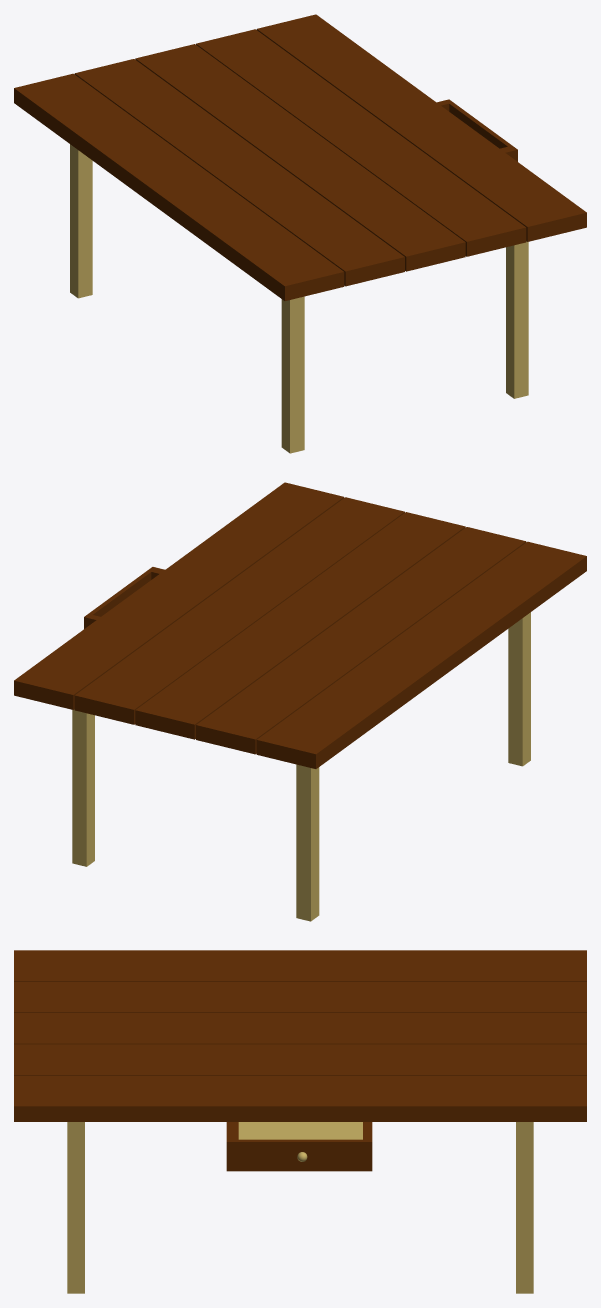
Rendered from Stol2.fbx.
3 views of the same model, one above another, from view 1: azimuth 30°, elevation 25°; view 2: azimuth 150°, elevation 25°; view 3: azimuth 270°, elevation 25° (orthographic). The views are drawn at different scales.
Parts seen in each view (by area): view 1: Cube; view 2: Cube; view 3: Cube.
Boxes of the visible parts, left/top/right/bottom form: Cube: left=14, top=14, right=586, bottom=453; Cube: left=14, top=482, right=586, bottom=921; Cube: left=14, top=950, right=586, bottom=1293.
Size of the model in its own units: 1435 by 781 by 1983.
